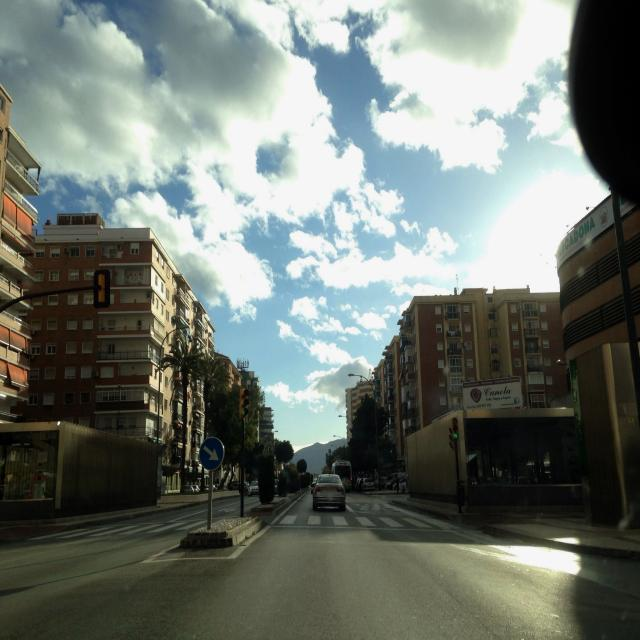car: (312, 474, 346, 512), (361, 478, 375, 492), (248, 480, 260, 496), (229, 480, 241, 490)
